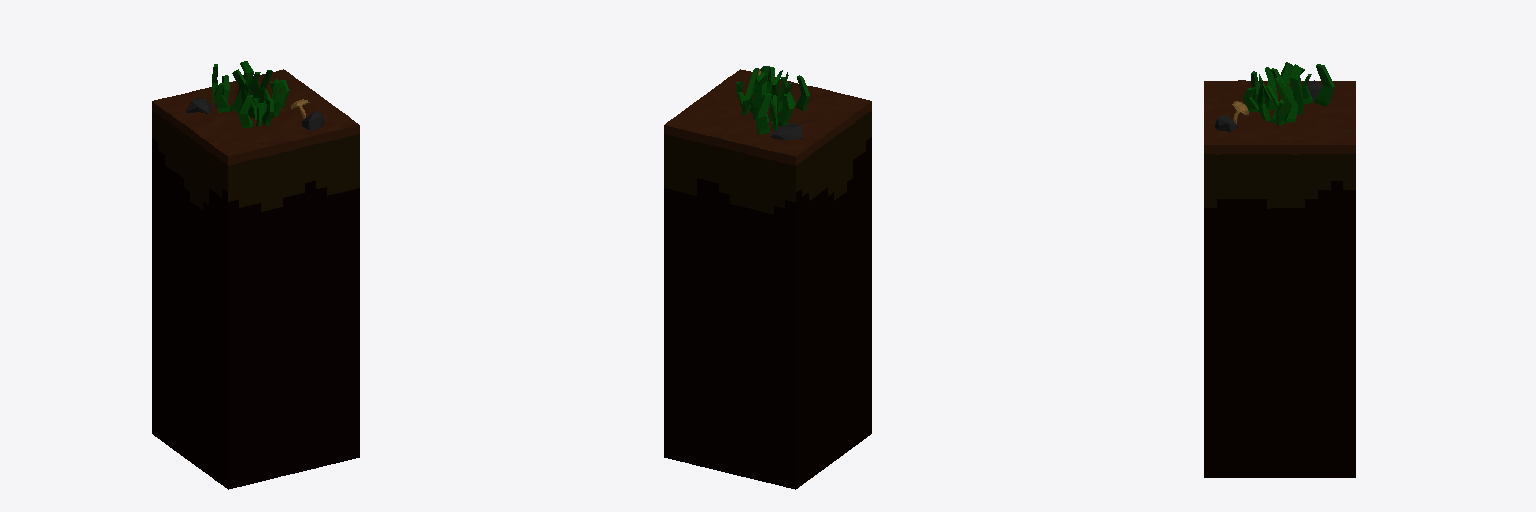
File: tierra1.obj
3 views of the same model, side by side, from view 1: azimuth 30°, elevation 25°; view 2: azimuth 150°, elevation 25°; view 3: azimuth 270°, elevation 25° (orthographic).
Visible parts, largest first — view 1: Cube.083, Cube.084; view 2: Cube.083, Cube.084; view 3: Cube.083, Cube.084.
Part boxes in pixels (x1,y1,x2,y2): Cube.083: (152,69,359,489); Cube.084: (212,61,289,127); Cube.083: (664,69,871,489); Cube.084: (736,66,809,134); Cube.083: (1204,80,1355,477); Cube.084: (1243,62,1334,125).
Size of the model in its own units: 19.41 by 53.48 by 19.41.